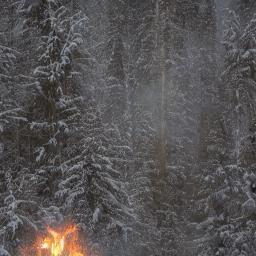Small fire: (14, 221, 97, 256)
